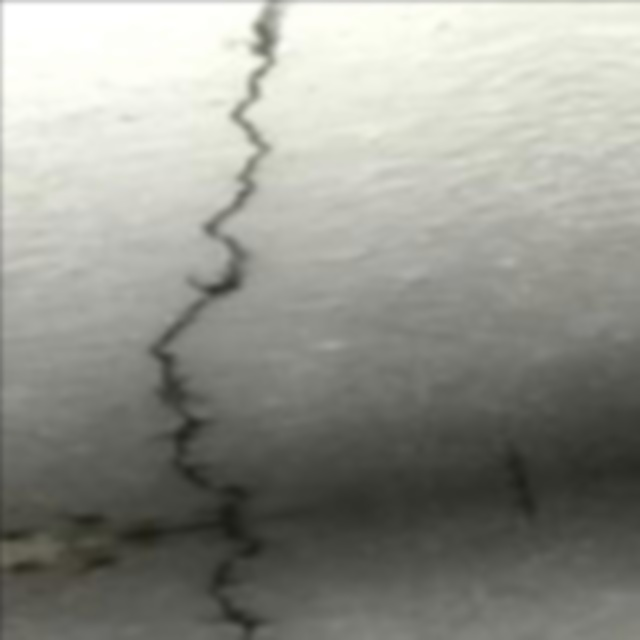SurfaceCrack: (138, 0, 304, 640)
